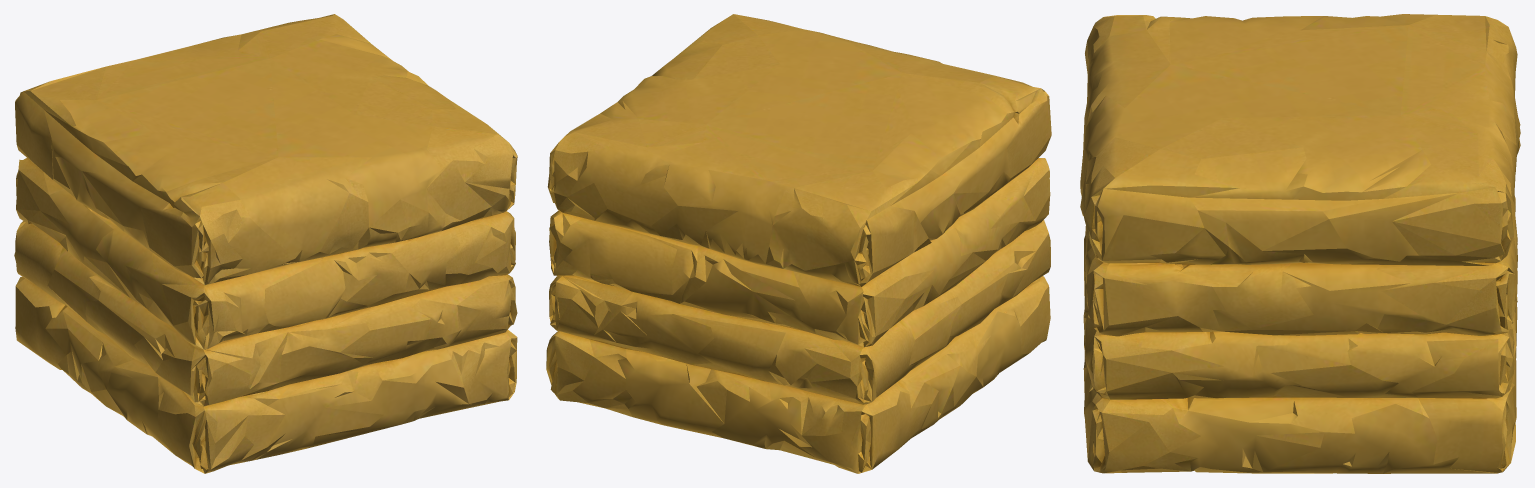
File: w3hclothsets.glb
The picture shows the model from 3 angles, left to right: view 1: azimuth 30°, elevation 25°; view 2: azimuth 150°, elevation 25°; view 3: azimuth 270°, elevation 25°; orthographic projection. The views are drawn at different scales.
Parts seen in each view (by area): view 1: output_unwrapped; view 2: output_unwrapped; view 3: output_unwrapped.
Boxes of the visible parts, x1,y1,x2,y2 form: output_unwrapped: (14, 14, 517, 473); output_unwrapped: (546, 14, 1051, 473); output_unwrapped: (1080, 14, 1520, 473).
Size of the model in its own units: 0.4 by 0.3058 by 0.4008.
Materials: 1 (1 with a texture image).
